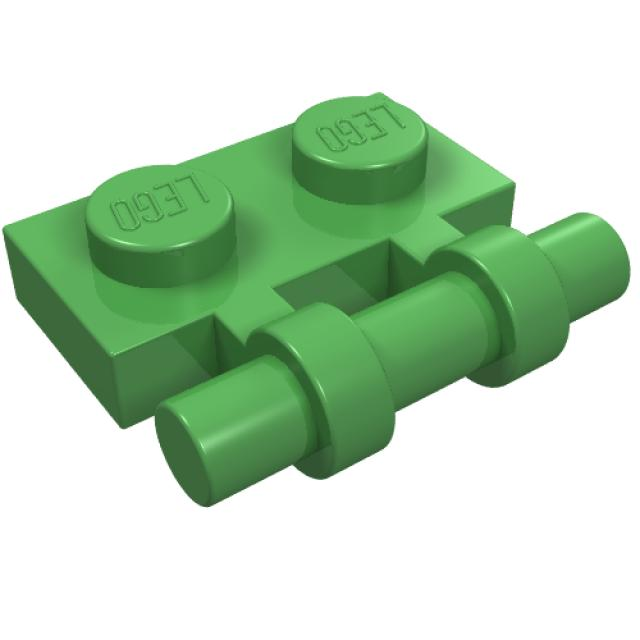Green_Medium: (4, 92, 631, 511)
